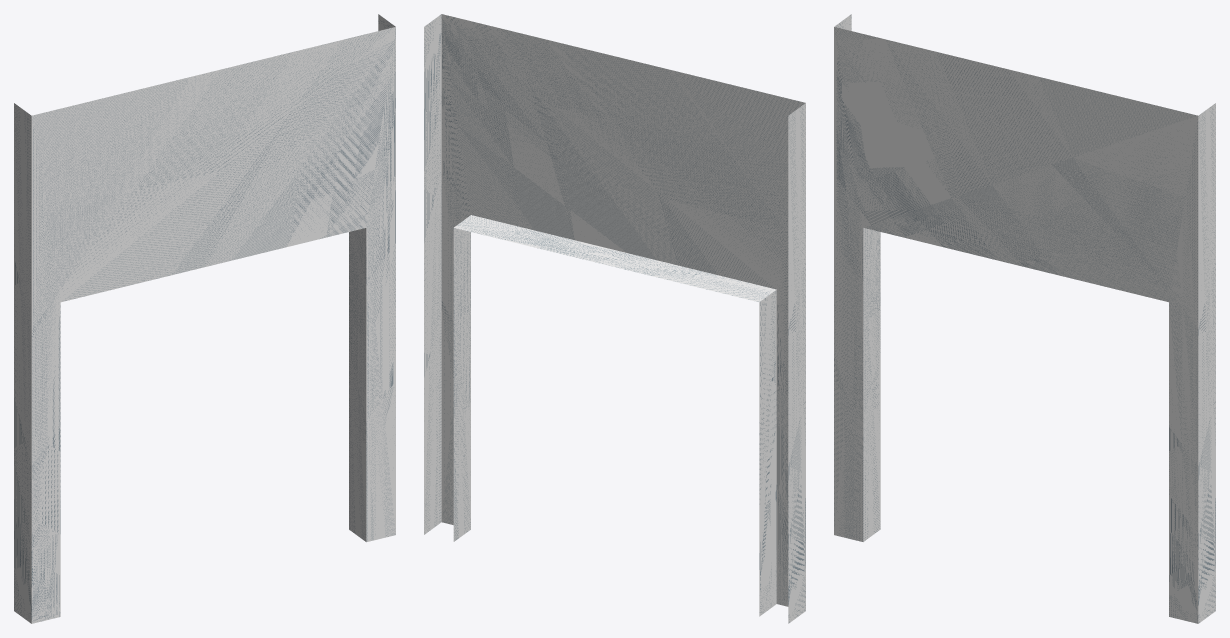
Rendered from BlockWall_os_[300x400x025]_252x247_double_doorway.dae.
3 renders of one model, left to right at view 1: azimuth 30°, elevation 25°; view 2: azimuth 150°, elevation 25°; view 3: azimuth 330°, elevation 25°, orthographic.
Visible parts, largest first — view 1: group_0; view 2: group_0; view 3: group_0.
Part boxes in pixels (x1,y1,x2,y2): group_0: [14, 14, 395, 623]; group_0: [424, 14, 805, 623]; group_0: [834, 14, 1215, 623].
Size of the model in its own units: 118 by 9.84 by 157.
